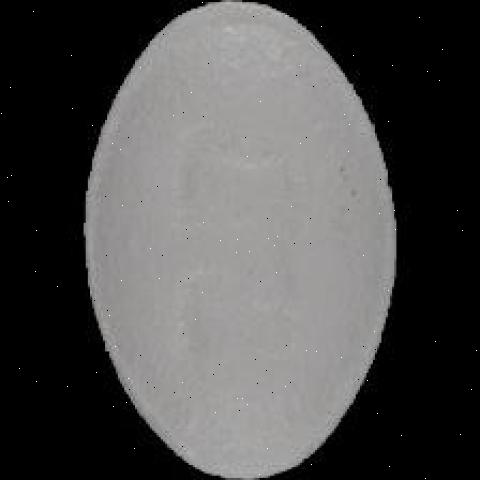Pill: (51, 3, 427, 478)
